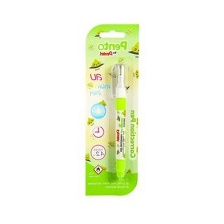book: (82, 21, 142, 197)
correction_fluid: (110, 61, 128, 181)
